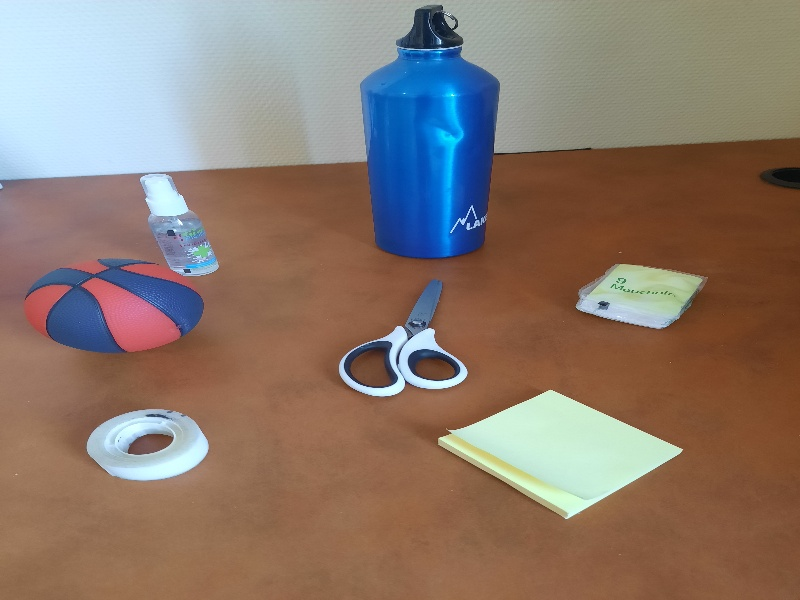ballon: (24, 258, 205, 352)
ciseaux: (338, 274, 471, 397)
gel: (138, 174, 221, 277)
gourde: (359, 1, 501, 258)
mouchoirs: (574, 262, 711, 330)
post-it: (440, 390, 693, 522)
scotch: (85, 408, 211, 478)
